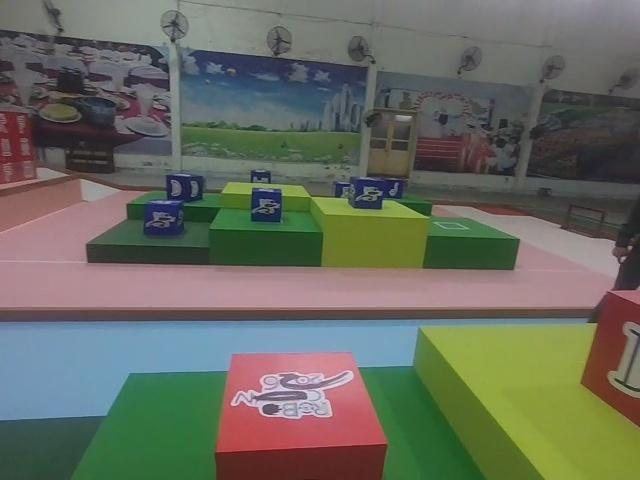R1: (212, 348, 392, 480)
R2 Real: (578, 287, 640, 431)
